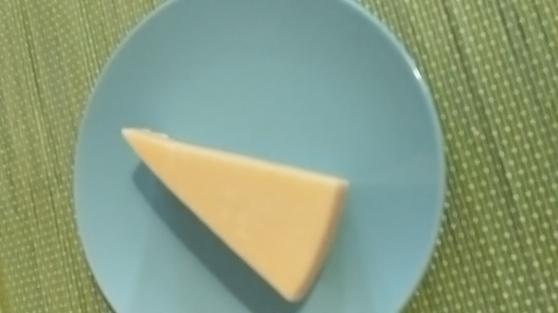cheese: (119, 126, 350, 303)
